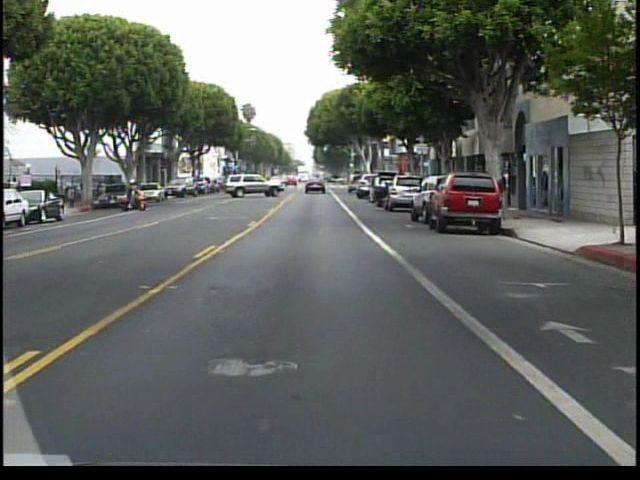person: (128, 178, 148, 210), (105, 171, 122, 205)
